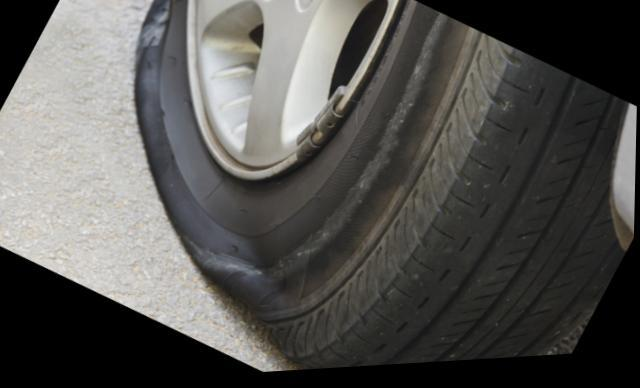tire flat: (131, 0, 627, 373)
